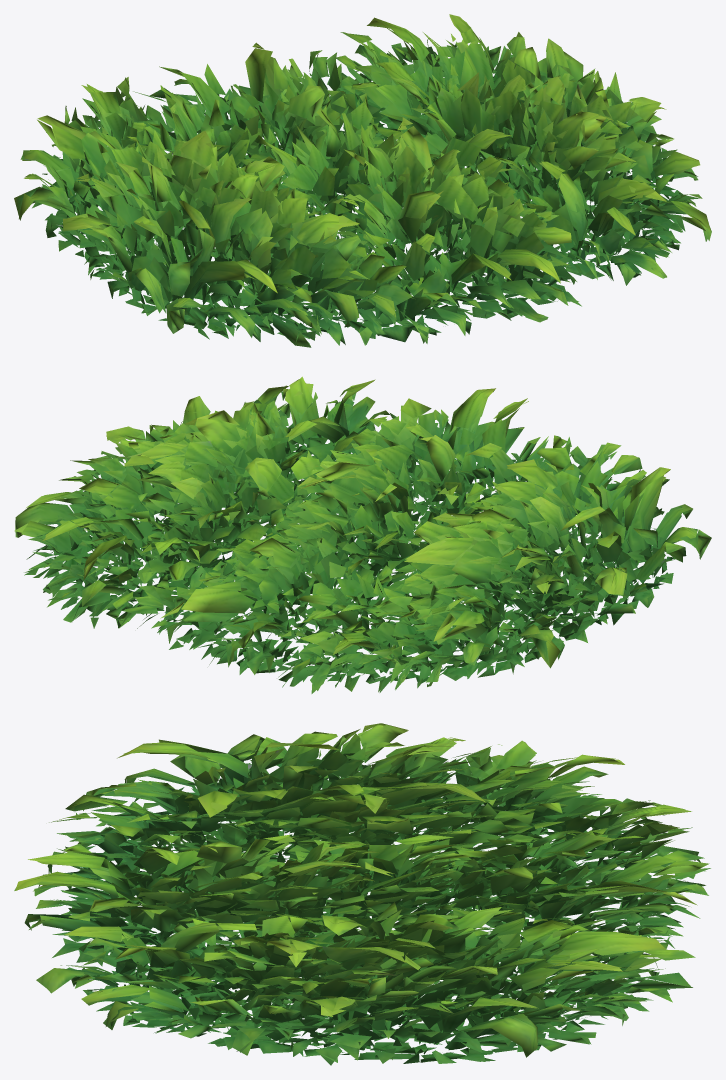
The model's file is massa-grama-avaliacao.glb.
3 renders of one model, top to bottom at view 1: azimuth 30°, elevation 25°; view 2: azimuth 150°, elevation 25°; view 3: azimuth 270°, elevation 25°, orthographic. The views are drawn at different scales.
Visible parts, largest first — view 1: massa-grama; view 2: massa-grama; view 3: massa-grama.
Part boxes in pixels (x1=…): massa-grama: x1=14, y1=14, x2=711, y2=347; massa-grama: x1=14, y1=376, x2=711, y2=693; massa-grama: x1=14, y1=723, x2=710, y2=1065.
Size of the model in its own units: 1 by 0.1399 by 1.
Materials: 1 (1 with a texture image).
